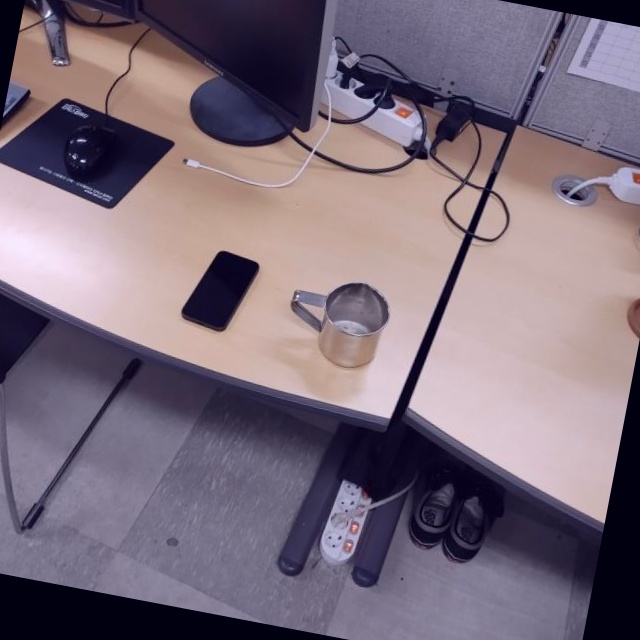cup: (278, 269, 395, 376)
phone: (177, 240, 264, 337)
